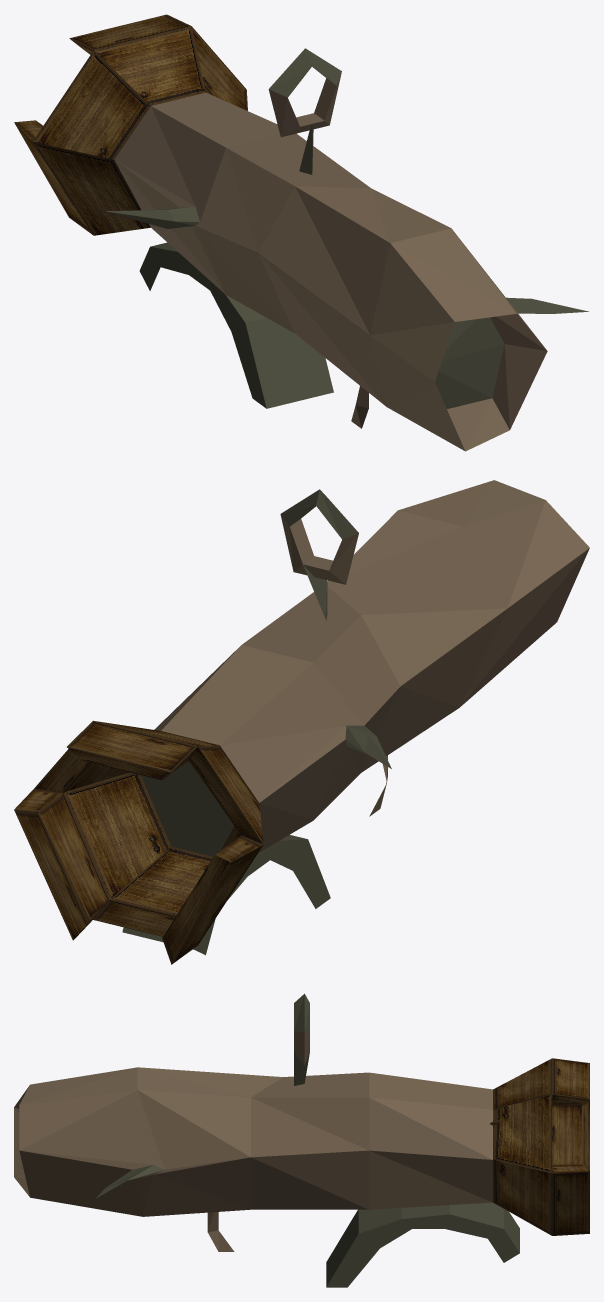
The picture shows the model from 3 angles, top to bottom: view 1: azimuth 30°, elevation 25°; view 2: azimuth 150°, elevation 25°; view 3: azimuth 270°, elevation 25°; orthographic projection. The views are drawn at different scales.
Size of the model in its own units: 46 by 57 by 107.
Materials: 2 (2 with a texture image).
